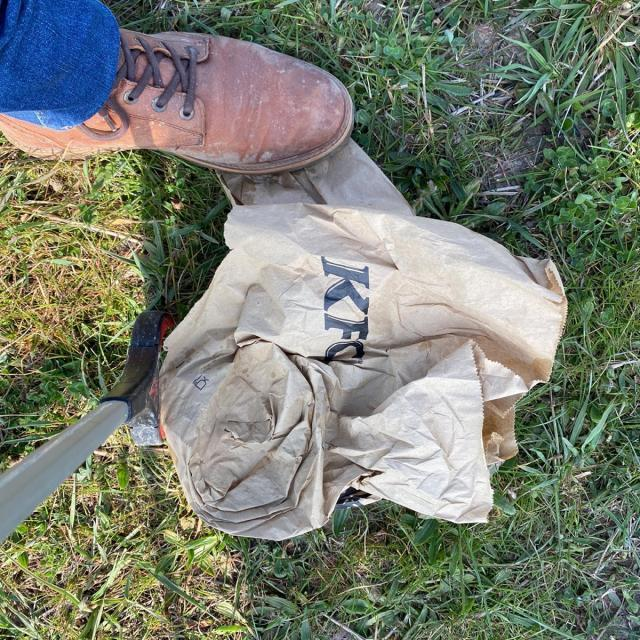Paper: (156, 133, 568, 542)
